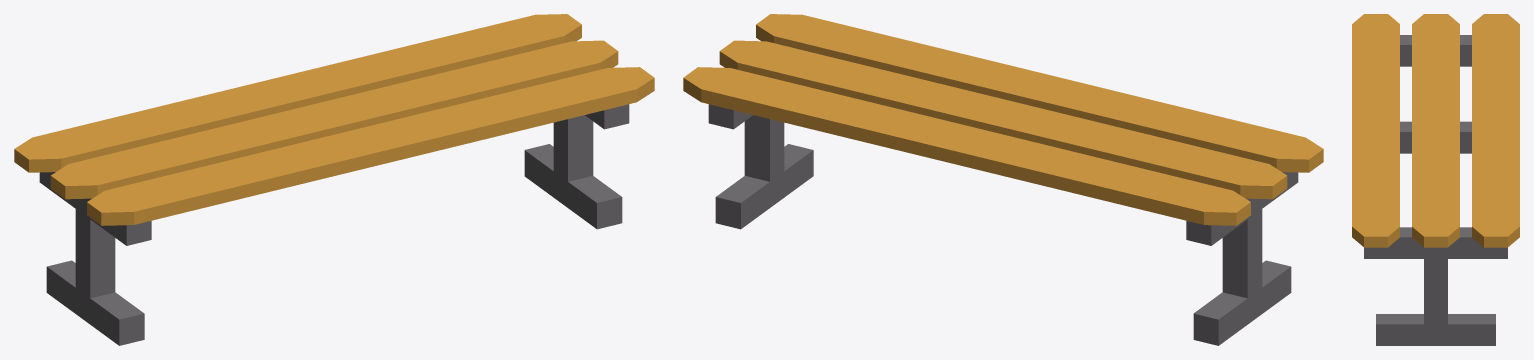
The model's file is scifi_bench.fbx.
The picture shows the model from 3 angles, left to right: view 1: azimuth 30°, elevation 25°; view 2: azimuth 150°, elevation 25°; view 3: azimuth 270°, elevation 25°; orthographic projection. The views are drawn at different scales.
Parts seen in each view (by area): view 1: Cube.081; view 2: Cube.081; view 3: Cube.081.
Part boxes in pixels (<box>): Cube.081: <box>14,14,654,345</box>; Cube.081: <box>683,14,1323,345</box>; Cube.081: <box>1352,14,1519,345</box>.
Bounding box in the file's own units: 2.2 × 0.55 × 0.7.
